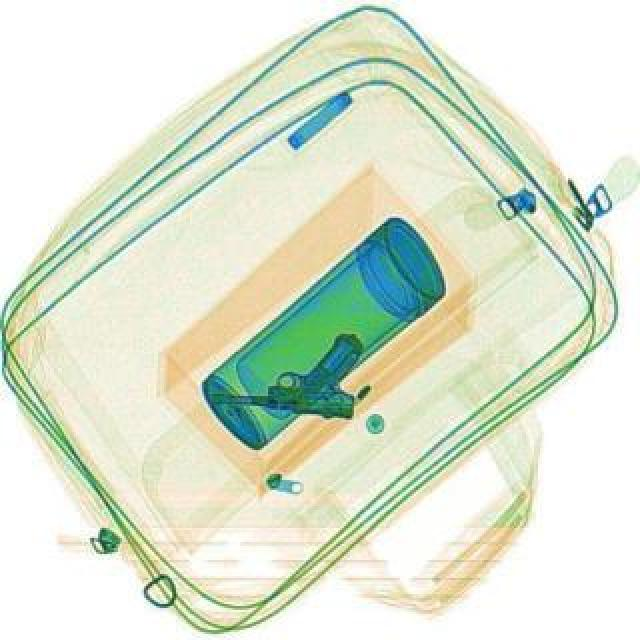gun: (208, 322, 364, 418)
